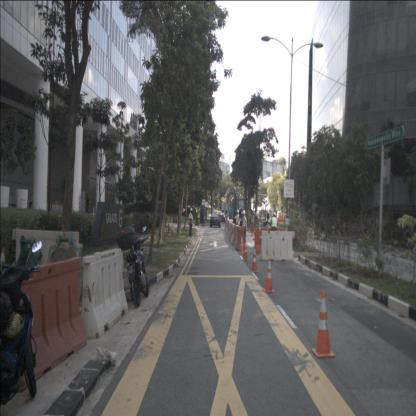movable_object-barrier: (0, 256, 87, 393), (14, 227, 82, 309), (81, 247, 129, 339), (260, 229, 295, 263), (252, 227, 286, 254), (234, 225, 246, 251), (225, 219, 236, 246)
movable_object-trafficcone: (312, 290, 336, 360), (262, 258, 276, 294), (250, 247, 260, 273), (242, 238, 249, 262), (238, 234, 245, 255)
vehicle-car: (210, 212, 222, 228), (218, 214, 226, 223)
vehicle-motorcycle: (0, 240, 42, 408), (116, 224, 150, 308)
